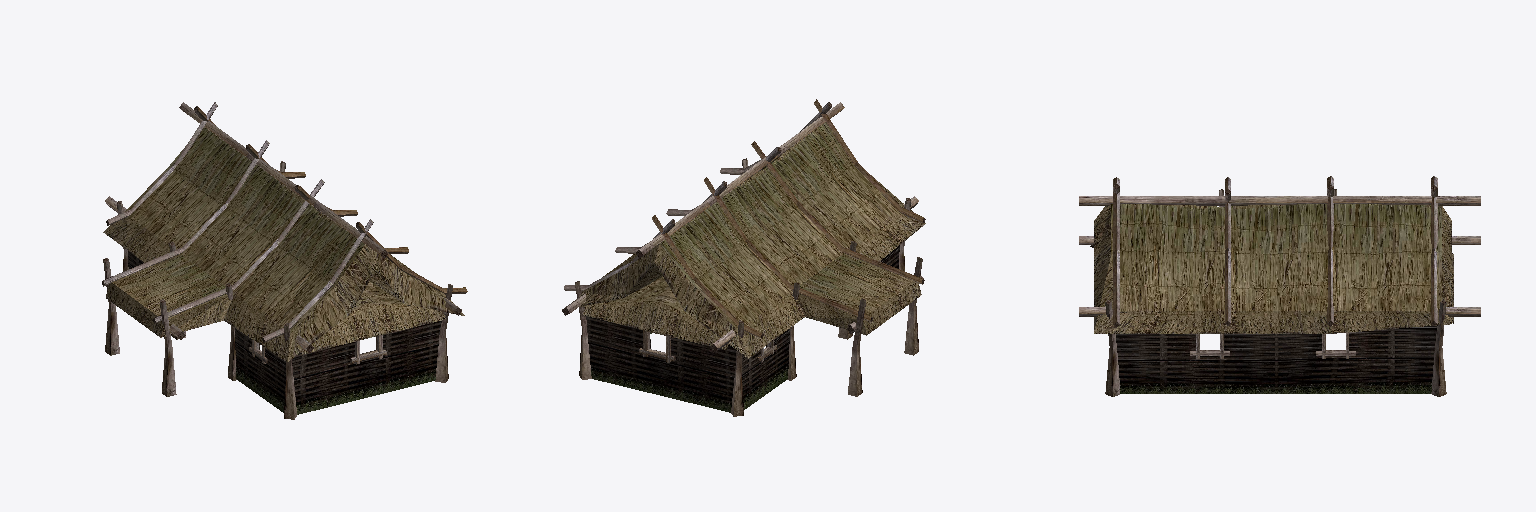
3 views of the same model, side by side, from view 1: azimuth 30°, elevation 25°; view 2: azimuth 150°, elevation 25°; view 3: azimuth 270°, elevation 25° (orthographic).
Parts seen in each view (by area): view 1: default; view 2: default; view 3: default.
Boxes of the visible parts, <box> form: default: <box>102,102,467,419</box>; default: <box>562,99,925,416</box>; default: <box>1079,176,1480,396</box>.
Bounding box in the file's own units: 9.62 × 6.39 × 13.08.
1 materials, 1 textured.